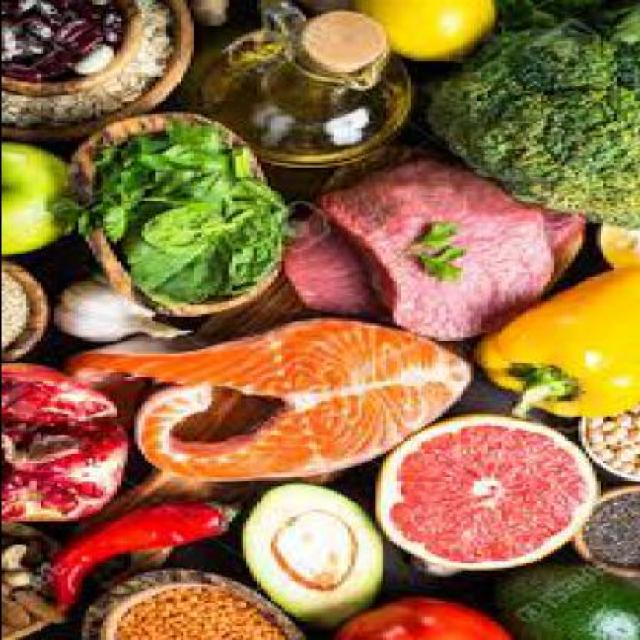BIODEGRADABLE: (70, 321, 476, 484), (427, 2, 639, 230), (318, 158, 560, 342), (283, 198, 591, 324), (378, 416, 602, 573), (98, 128, 290, 304), (476, 260, 638, 422), (45, 500, 242, 617), (244, 484, 384, 631), (4, 365, 133, 524), (3, 2, 126, 82), (504, 571, 638, 640), (360, 2, 500, 67), (4, 144, 81, 258), (114, 591, 288, 638), (338, 600, 516, 638), (594, 495, 638, 574), (594, 414, 638, 481), (52, 196, 98, 239), (4, 277, 31, 349), (419, 249, 468, 286), (18, 594, 70, 628), (413, 220, 465, 252), (7, 547, 38, 588), (3, 600, 34, 631)
GLASS: (196, 2, 416, 170)
